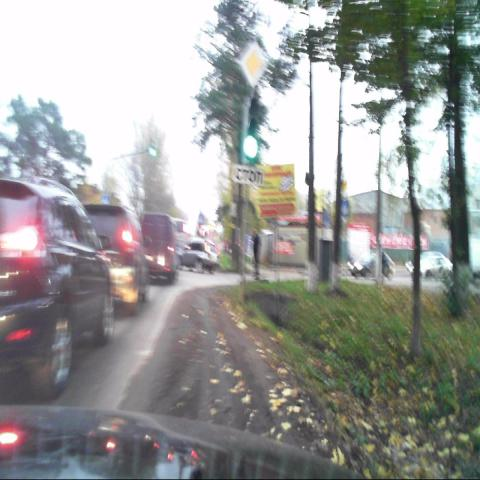6_16: (230, 163, 265, 189)
